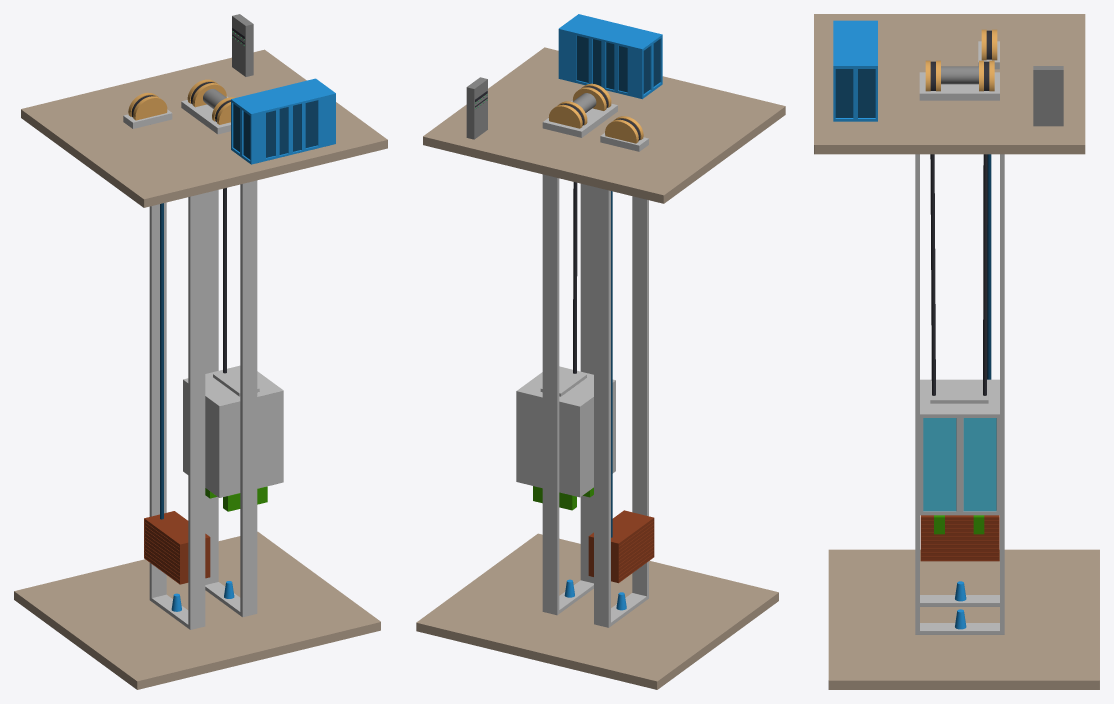
The model's file is sistema_de_elevador.glb.
The picture shows the model from 3 angles, left to right: view 1: azimuth 30°, elevation 25°; view 2: azimuth 150°, elevation 25°; view 3: azimuth 270°, elevation 25°; orthographic projection. The views are drawn at different scales.
Parts seen in each view (by area): view 1: Poço_Pit, Maquinario_Elevador, Trilhos_Guias1, Trilhos_Guia_Contrapeso2, Elevador, Sistema de Controle, Trilhos_Guia_Contrapeso1, Trilhos_Guias2, Contrapeso, Cabo_Contrapeso, Maquina_Controle, Polia_Contrapeso (+2 smaller); view 2: Poço_Pit, Maquinario_Elevador, Trilhos_Guias2, Trilhos_Guia_Contrapeso1, Elevador, Sistema de Controle, Trilhos_Guia_Contrapeso2, Trilhos_Guias1, Contrapeso, Maquina_Controle, Apoio_Tração, Corda (+3 smaller); view 3: Poço_Pit, Maquinario_Elevador, Sistema de Controle, Elevador, Contrapeso, Porta1, Porta2, Trilhos_Guias1, Trilhos_Guias2, Maquina_Controle, Apoio_Tração, Corda2 (+9 smaller).
Part boxes in pixels (bbox=[...]): Poço_Pit: bbox=[14, 531, 380, 689]; Maquinario_Elevador: bbox=[21, 49, 387, 207]; Trilhos_Guias1: bbox=[240, 180, 257, 617]; Trilhos_Guia_Contrapeso2: bbox=[188, 193, 205, 629]; Elevador: bbox=[183, 365, 283, 497]; Sistema de Controle: bbox=[231, 78, 335, 164]; Trilhos_Guia_Contrapeso1: bbox=[149, 202, 166, 601]; Trilhos_Guias2: bbox=[205, 190, 218, 584]; Contrapeso: bbox=[144, 511, 210, 584]; Cabo_Contrapeso: bbox=[160, 203, 163, 519]; Maquina_Controle: bbox=[232, 14, 253, 76]; Polia_Contrapeso: bbox=[128, 92, 167, 120]; Poço_Pit: bbox=[416, 533, 778, 689]; Maquinario_Elevador: bbox=[423, 47, 785, 203]; Trilhos_Guias2: bbox=[542, 174, 559, 615]; Trilhos_Guia_Contrapeso1: bbox=[594, 187, 610, 627]; Elevador: bbox=[516, 366, 615, 497]; Sistema de Controle: bbox=[558, 14, 662, 99]; Trilhos_Guia_Contrapeso2: bbox=[632, 196, 648, 599]; Trilhos_Guias1: bbox=[580, 183, 593, 583]; Contrapeso: bbox=[588, 510, 654, 583]; Maquina_Controle: bbox=[466, 77, 487, 139]; Apoio_Tração: bbox=[542, 100, 617, 137]; Corda: bbox=[573, 182, 577, 373]; Poço_Pit: bbox=[828, 549, 1099, 689]; Maquinario_Elevador: bbox=[814, 14, 1085, 154]; Sistema de Controle: bbox=[833, 20, 877, 121]; Elevador: bbox=[920, 379, 999, 515]; Contrapeso: bbox=[920, 515, 999, 561]; Porta1: bbox=[923, 418, 956, 511]; Porta2: bbox=[963, 418, 996, 511]; Trilhos_Guias1: bbox=[915, 154, 919, 634]; Trilhos_Guias2: bbox=[1000, 154, 1004, 634]; Maquina_Controle: bbox=[1033, 66, 1063, 126]; Apoio_Tração: bbox=[919, 72, 999, 100]; Corda2: bbox=[983, 154, 987, 395].
Bounding box in the file's own units: 10.09 × 21.6 × 9.3.
